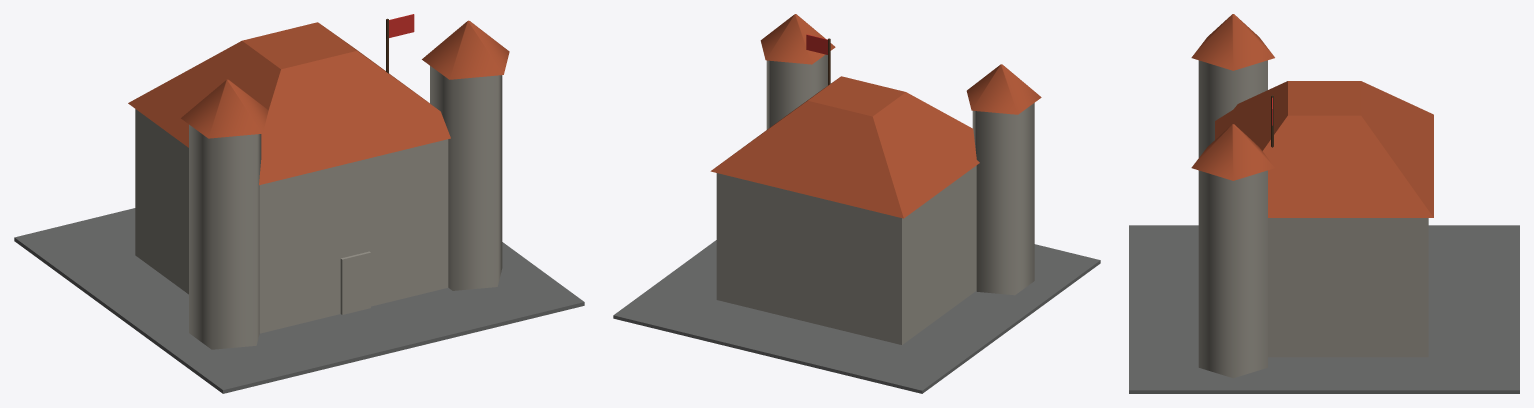
File: bld_special_command_center_a04_lod2.glb
The picture shows the model from 3 angles, left to right: view 1: azimuth 30°, elevation 25°; view 2: azimuth 150°, elevation 25°; view 3: azimuth 270°, elevation 25°; orthographic projection. The views are drawn at different scales.
Parts seen in each view (by area): view 1: body; view 2: body; view 3: body.
Part boxes in pixels (left/top/right/bottom): body: left=14, top=14, right=584, bottom=393; body: left=613, top=14, right=1100, bottom=393; body: left=1129, top=14, right=1519, bottom=393.
Size of the model in its own units: 15 by 10.3 by 15.
